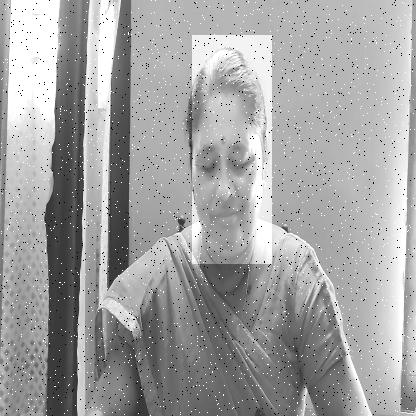Normal: (192, 35, 272, 264)
